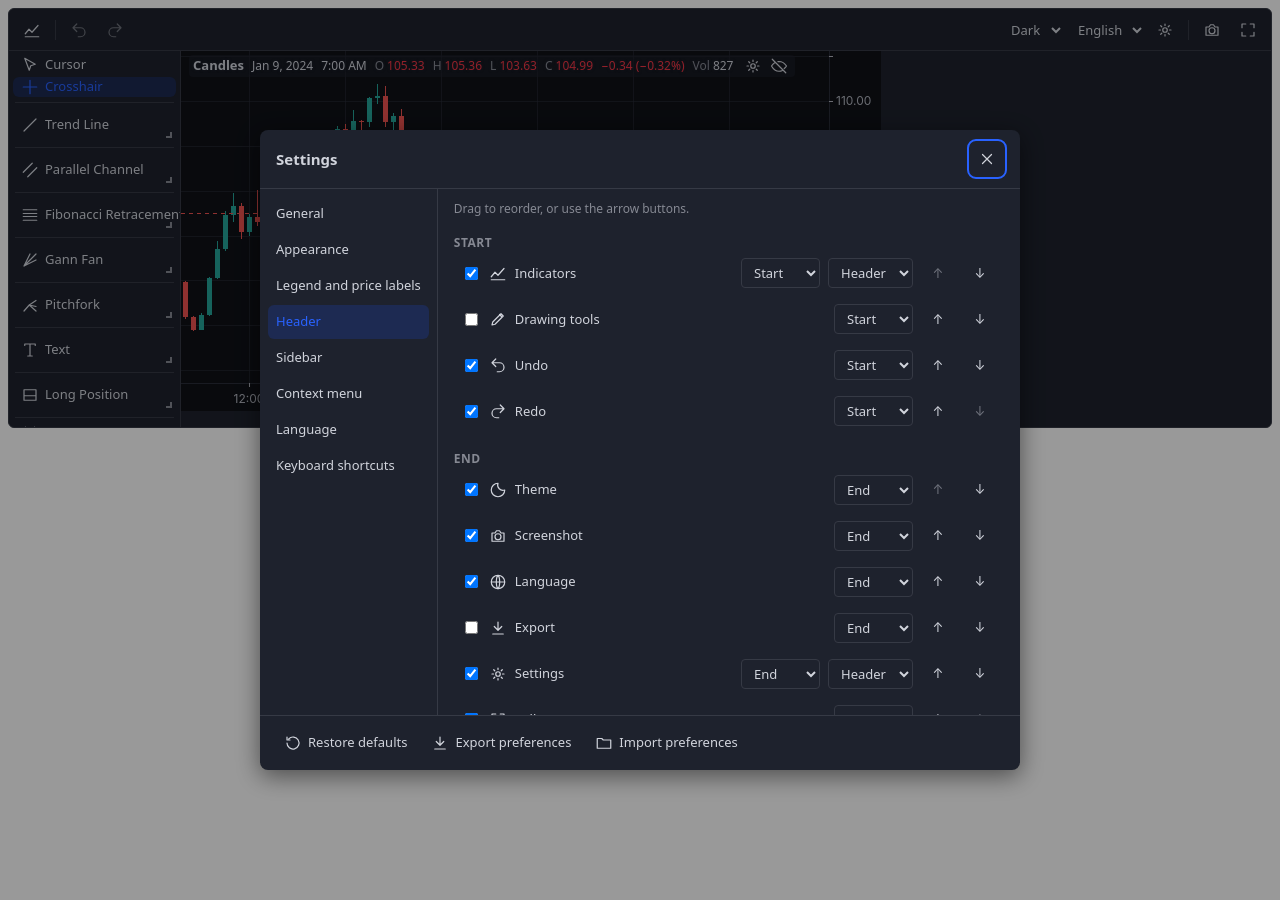
Scenario: <ChartInterface> › opens settings from the header; hiding an action updates the header and persists
Check: the dialog is shown, box top-left (260, 130), bottom-right (1020, 770)
Click the checkbox named "Visible: Indicators" at (471, 273), box top-left (465, 267), bottom-right (478, 280)
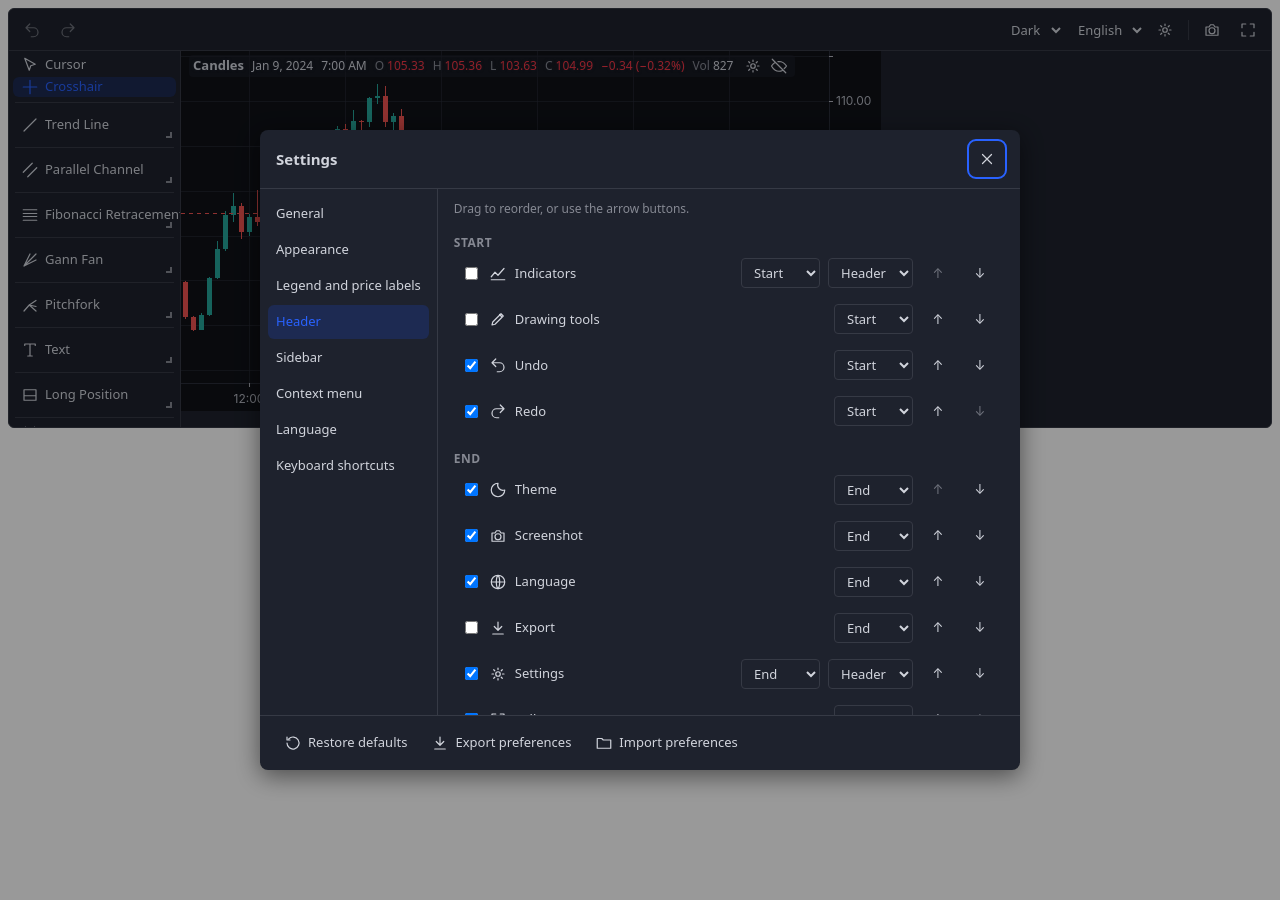
Check: the button named "Indicators" is gone
Click the tab "Language" at (348, 430), box top-left (268, 413), bottom-right (429, 447)
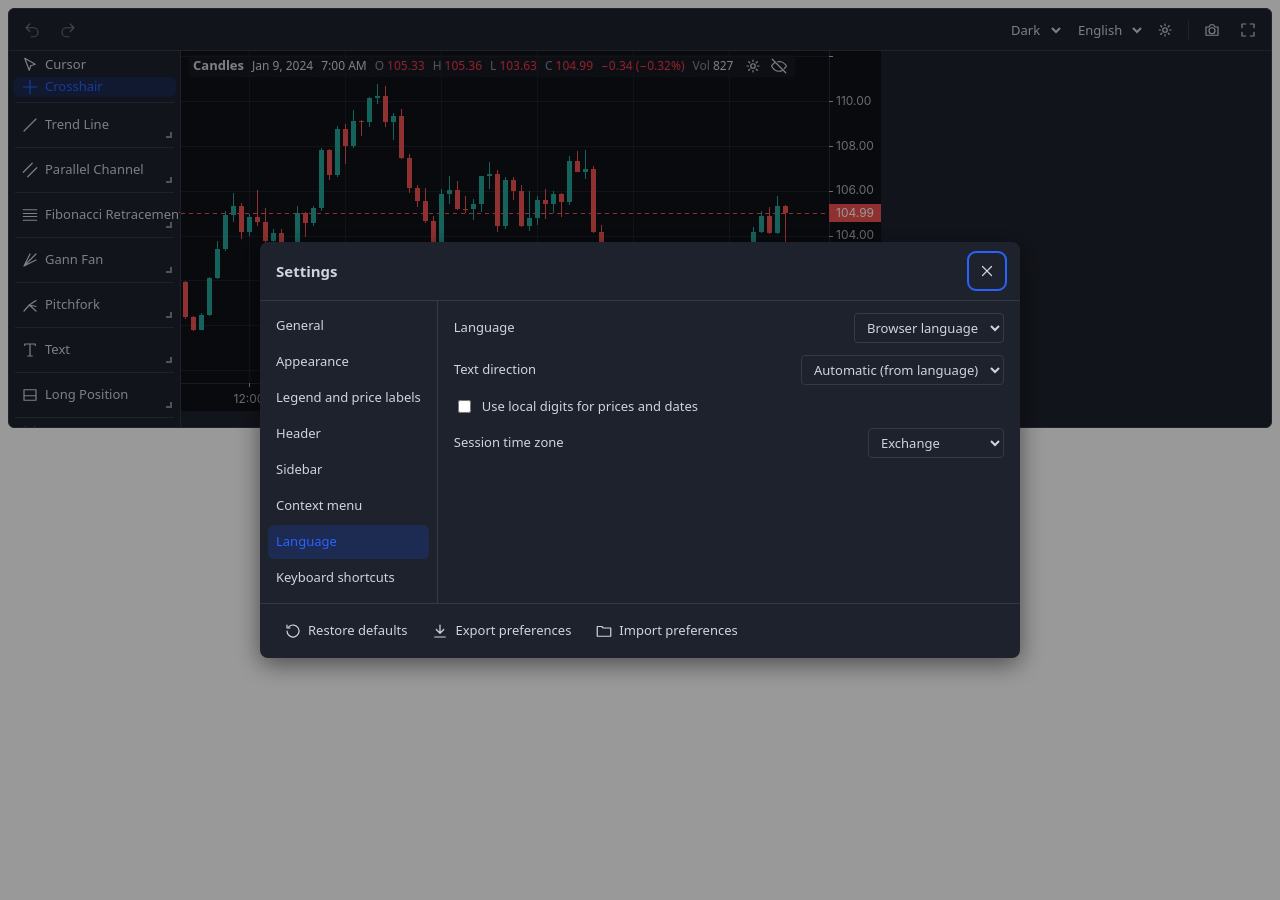
Check: the panel shows "Text direction", box top-left (454, 360), bottom-right (536, 378)
Press Escape in the dialog, box top-left (260, 242), bottom-right (1020, 658)
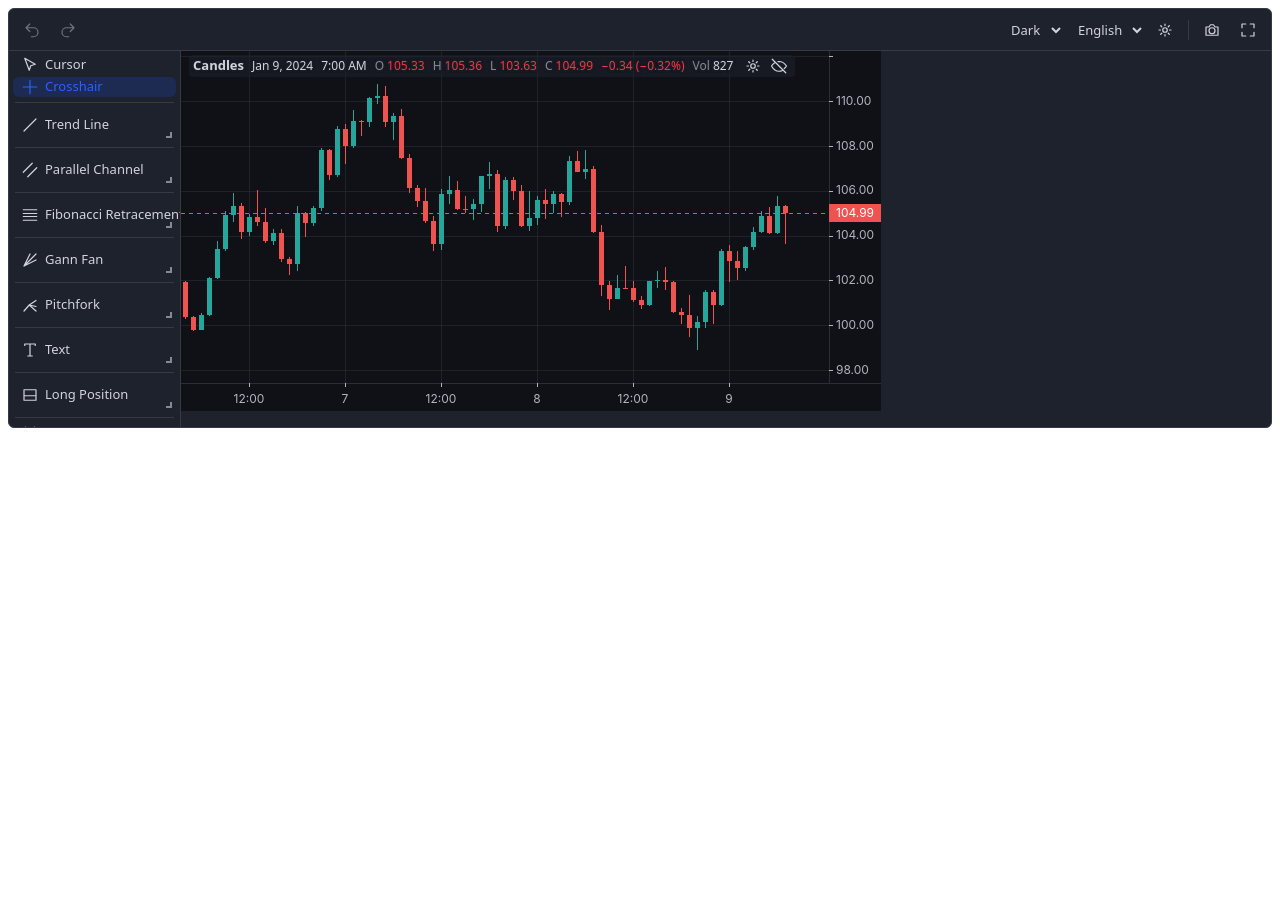
Check: the dialog is gone
